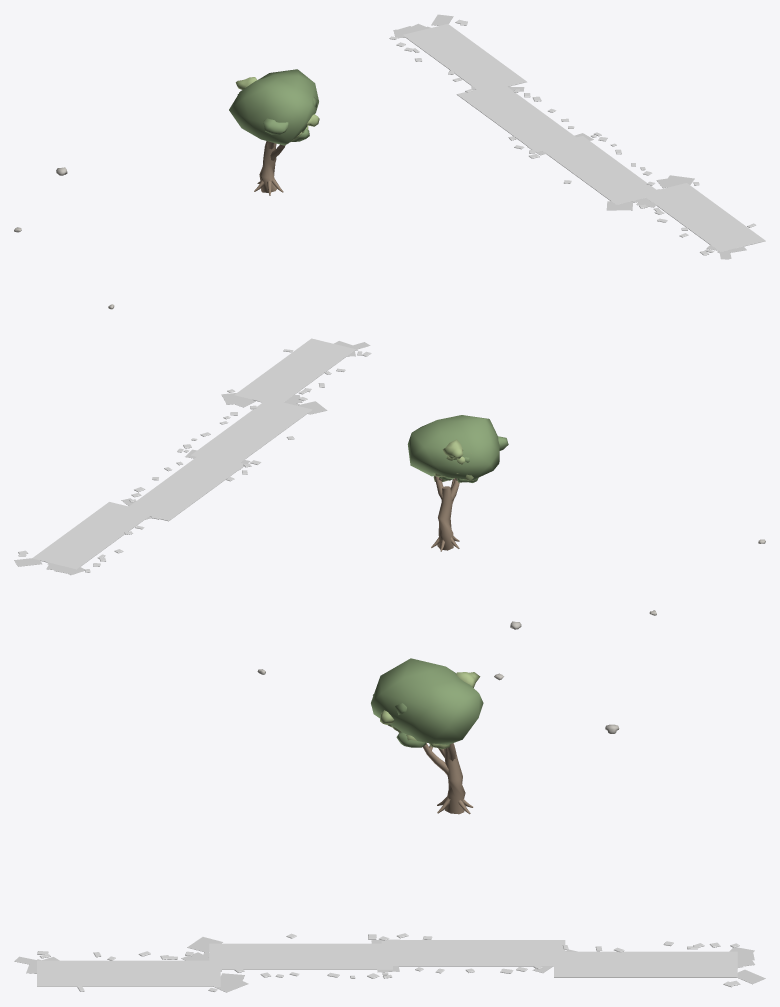
The picture shows the model from 3 angles, top to bottom: view 1: azimuth 30°, elevation 25°; view 2: azimuth 150°, elevation 25°; view 3: azimuth 270°, elevation 25°; orthographic projection. The views are drawn at different scales.
Visible parts, largest first — view 1: pm1_m2; view 2: pm1_m2; view 3: pm1_m2.
Part boxes in pixels (<box>): pm1_m2: <box>14,14,765,309</box>; pm1_m2: <box>14,338,765,629</box>; pm1_m2: <box>14,658,765,992</box>.
Size of the model in its own units: 39.98 by 8.17 by 39.27.
